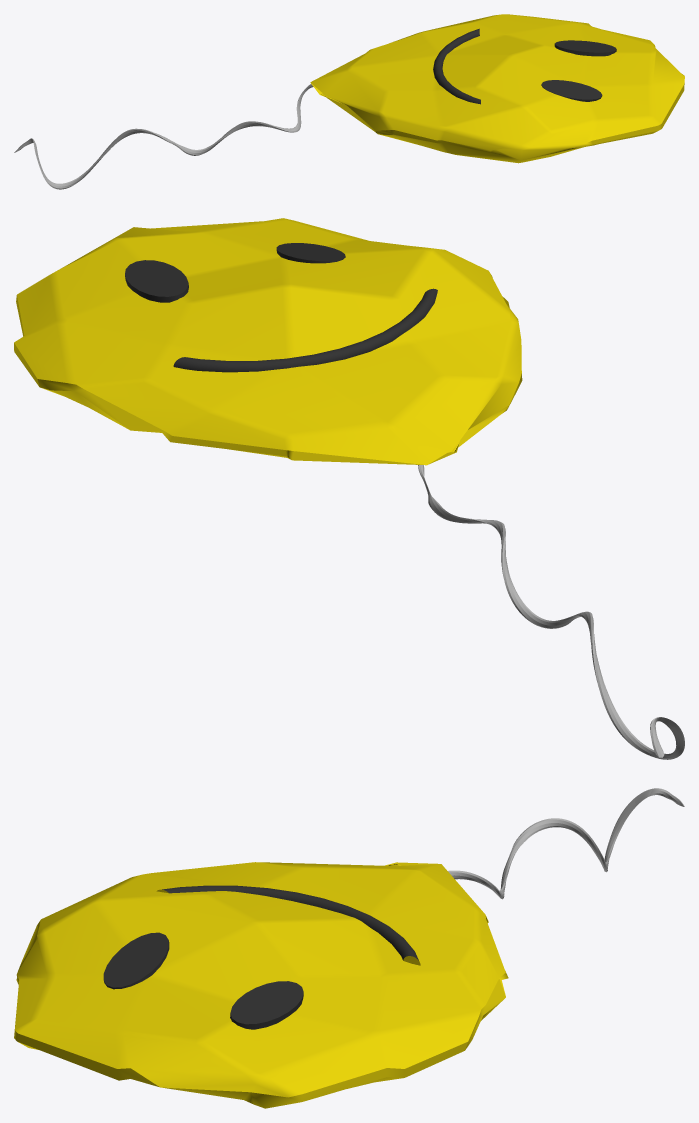
Rendered from baloon.fbx.
The picture shows the model from 3 angles, top to bottom: view 1: azimuth 30°, elevation 25°; view 2: azimuth 150°, elevation 25°; view 3: azimuth 270°, elevation 25°; orthographic projection. The views are drawn at different scales.
Visible parts, largest first — view 1: pPlatonic2; view 2: pPlatonic2; view 3: pPlatonic2.
Part boxes in pixels (box(x1,y1,x2,y2)): pPlatonic2: box(14, 14, 684, 189); pPlatonic2: box(14, 218, 684, 759); pPlatonic2: box(14, 788, 684, 1108).
Bounding box in the file's own units: 21.26 × 5.1 × 14.85.
